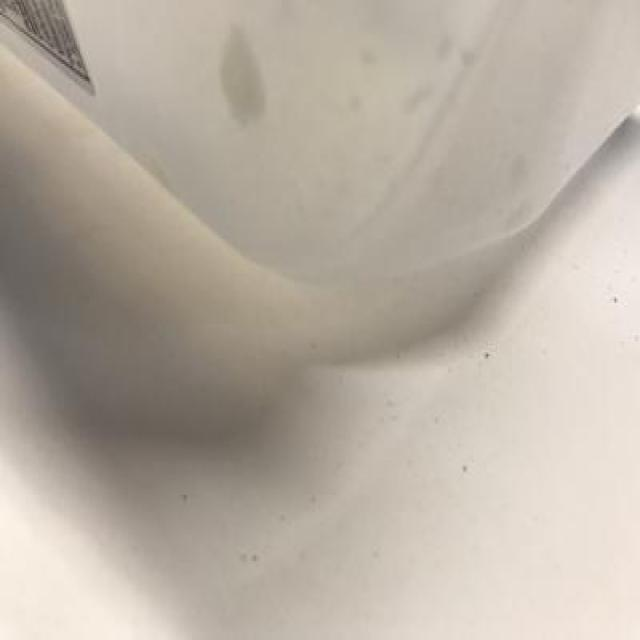plastic: (0, 0, 640, 280)
